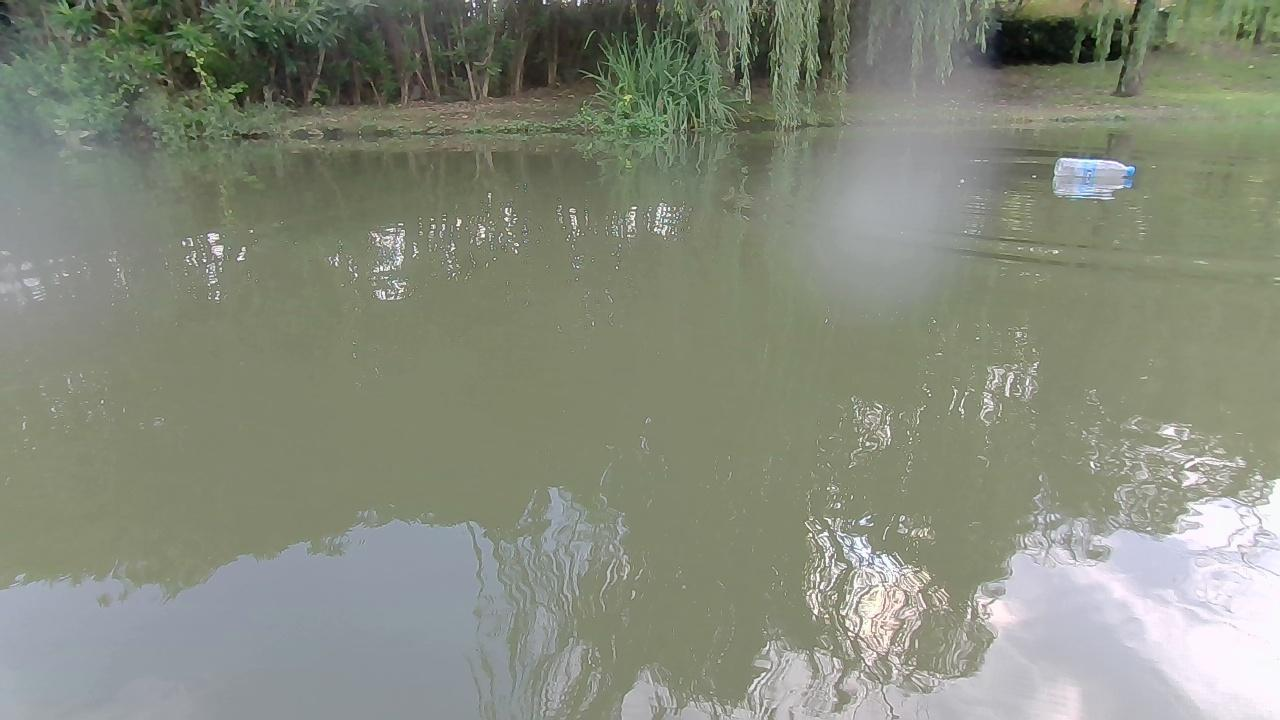bottle: (1052, 152, 1133, 182)
